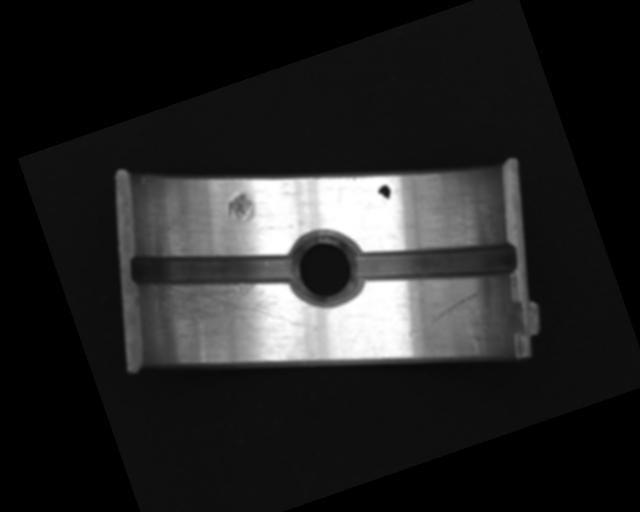blot: (375, 182, 394, 205)
bruise: (222, 189, 261, 228)
gap: (126, 210, 298, 329), (351, 204, 521, 320)
hole: (280, 225, 369, 313)
nick: (402, 288, 488, 338)
scratch: (134, 245, 303, 374)
